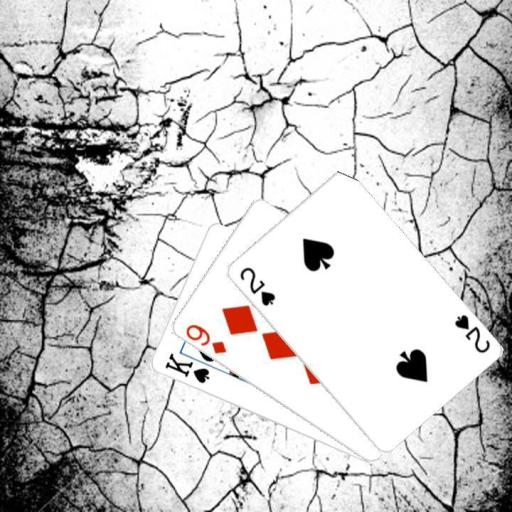2S: (236, 264, 277, 308), (451, 311, 491, 355)
9D: (182, 321, 228, 356)
KS: (162, 350, 212, 385)
